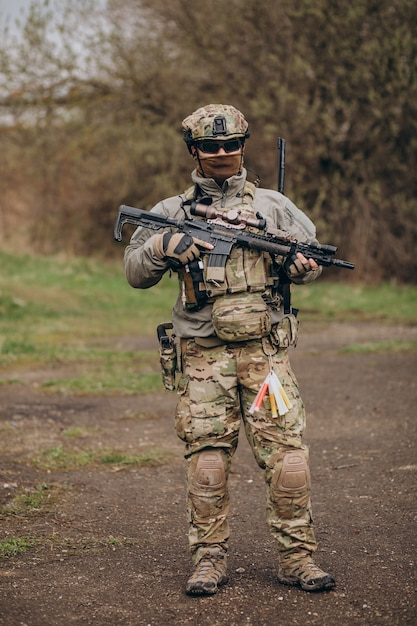gun: (111, 202, 355, 284)
